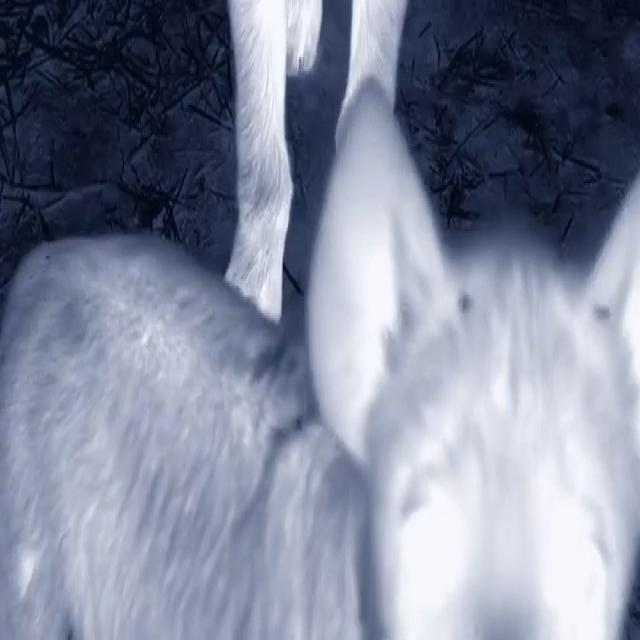animal: (1, 93, 640, 640)
